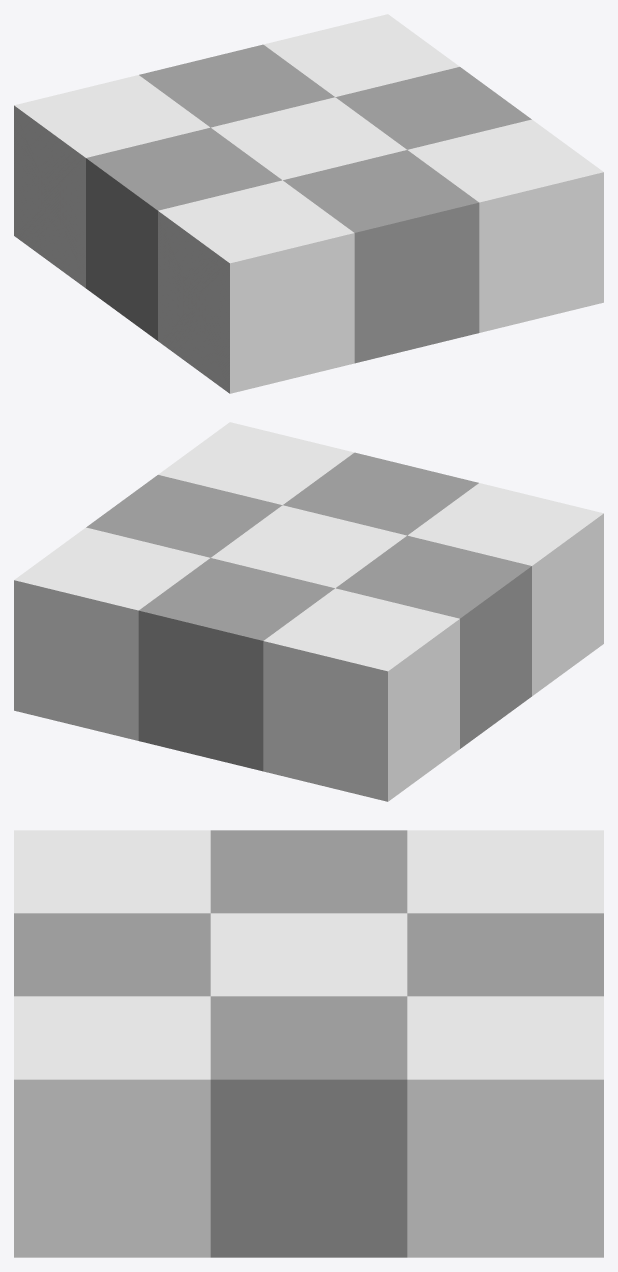
Rendered from floor_1.cube.obj.
3 views of the same model, one above another, from view 1: azimuth 30°, elevation 25°; view 2: azimuth 150°, elevation 25°; view 3: azimuth 270°, elevation 25° (orthographic). The views are drawn at different scales.
Size of the model in its own units: 3 by 1 by 3.
1 material, 1 textured.
